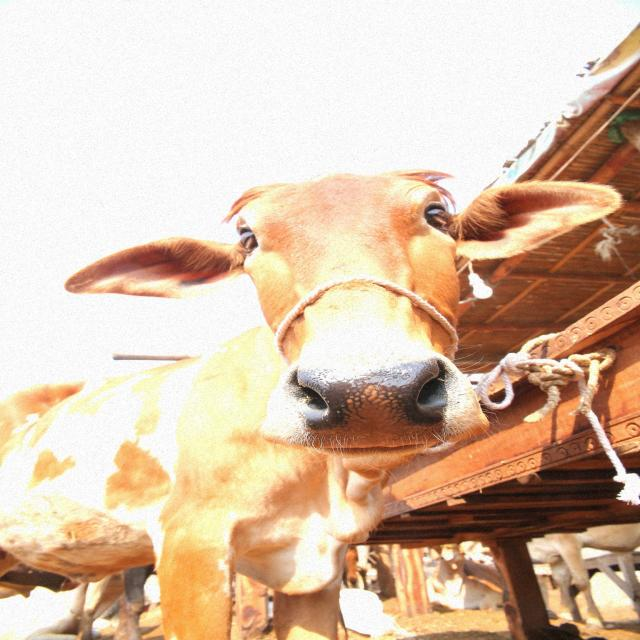muzzles: (294, 359, 452, 444)
